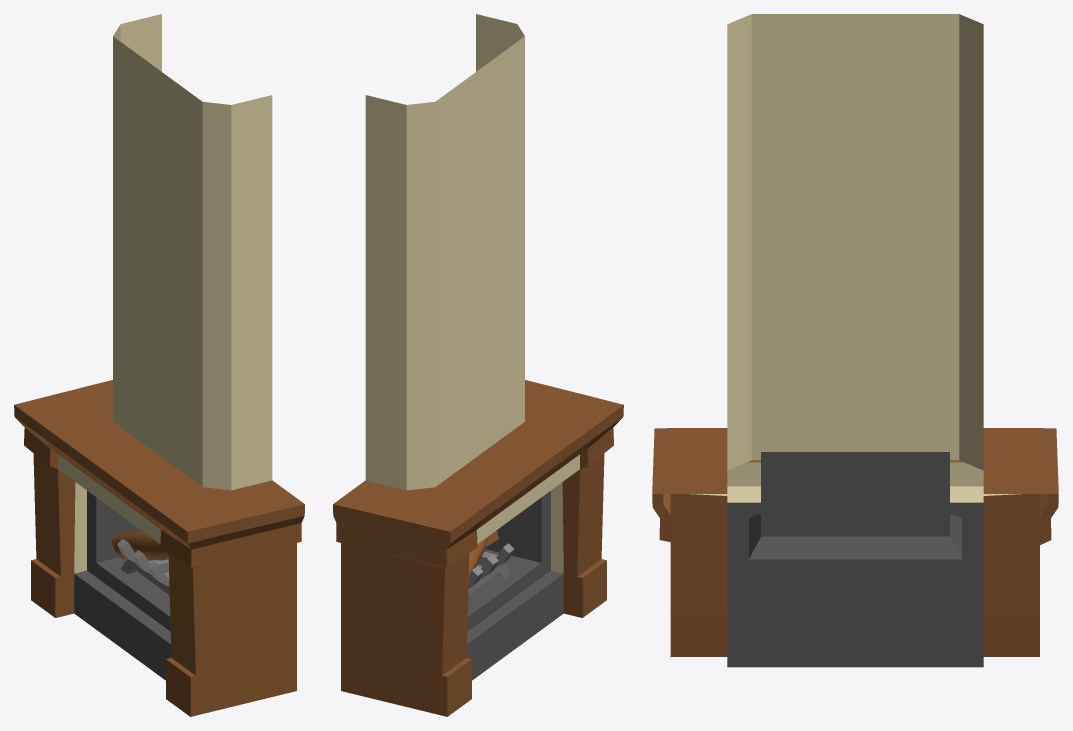
The model's file is SM_Chimney_01.fbx.
3 views of the same model, side by side, from view 1: azimuth 30°, elevation 25°; view 2: azimuth 150°, elevation 25°; view 3: azimuth 270°, elevation 25° (orthographic). The views are drawn at different scales.
Visible parts, largest first — view 1: SM_Chimney_01; view 2: SM_Chimney_01; view 3: SM_Chimney_01.
Part boxes in pixels (<box>): SM_Chimney_01: <box>14,14,304,716</box>; SM_Chimney_01: <box>333,14,623,716</box>; SM_Chimney_01: <box>652,14,1058,667</box>.
Bounding box in the file's own units: 0.6318 × 1.65 × 3.
